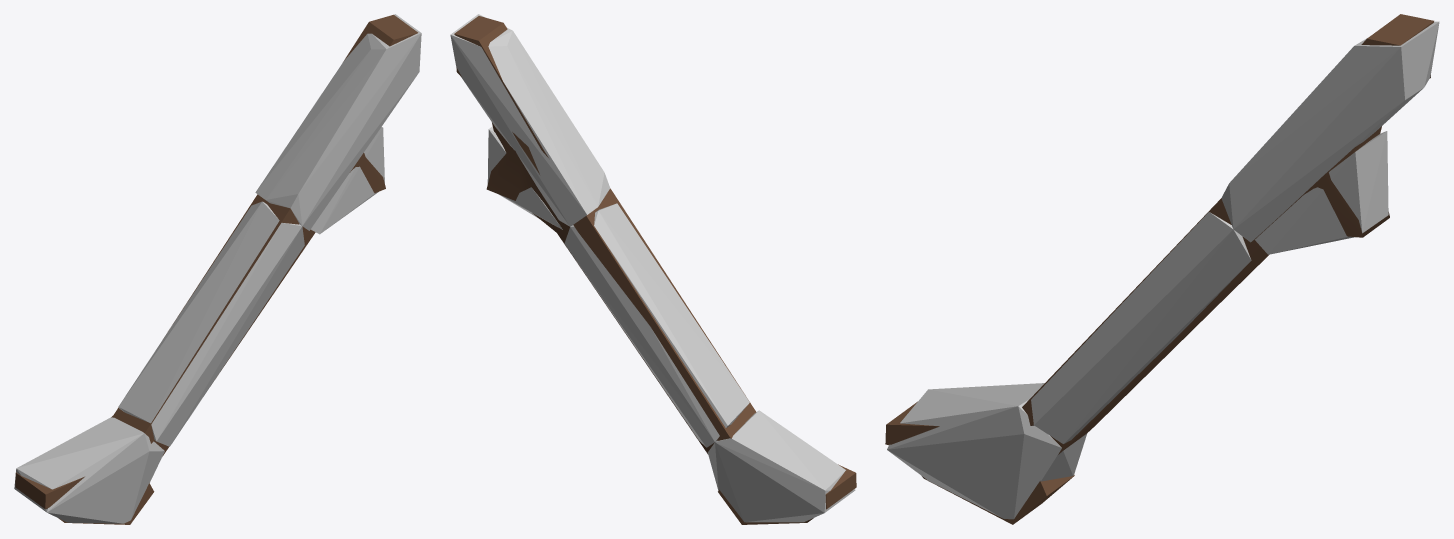
File: SM_Bld_Roof_End_Straight_Beam_01.fbx
The picture shows the model from 3 angles, left to right: view 1: azimuth 30°, elevation 25°; view 2: azimuth 150°, elevation 25°; view 3: azimuth 330°, elevation 25°; orthographic projection. The views are drawn at different scales.
Parts seen in each view (by area): view 1: SM_Bld_Roof_End_Straight_Beam_01_ConvexHulls, SM_Bld_Roof_End_Straight_Beam_01; view 2: SM_Bld_Roof_End_Straight_Beam_01_ConvexHulls, SM_Bld_Roof_End_Straight_Beam_01; view 3: SM_Bld_Roof_End_Straight_Beam_01_ConvexHulls, SM_Bld_Roof_End_Straight_Beam_01.
Boxes of the visible parts, x1,y1,x2,y2 form: SM_Bld_Roof_End_Straight_Beam_01_ConvexHulls: [14, 14, 421, 523]; SM_Bld_Roof_End_Straight_Beam_01: [15, 14, 417, 524]; SM_Bld_Roof_End_Straight_Beam_01_ConvexHulls: [450, 14, 855, 522]; SM_Bld_Roof_End_Straight_Beam_01: [454, 16, 856, 524]; SM_Bld_Roof_End_Straight_Beam_01_ConvexHulls: [887, 21, 1439, 519]; SM_Bld_Roof_End_Straight_Beam_01: [885, 14, 1433, 524].
Bounding box in the file's own units: 305 × 45.49 × 327.
2 materials, 1 textured.
